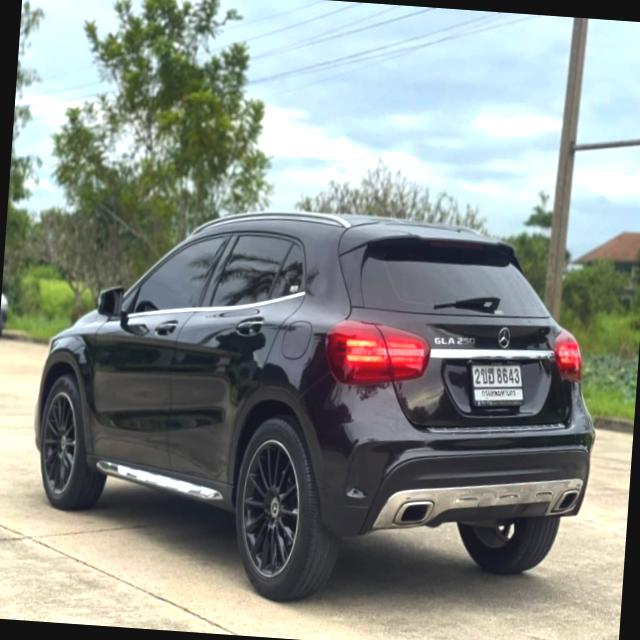license_plate: (469, 355, 528, 406)
